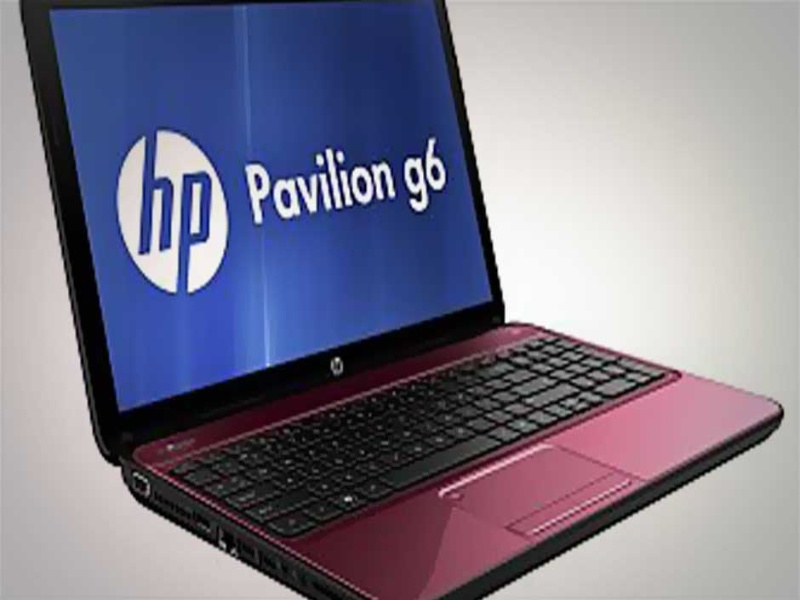hp: (123, 129, 227, 299), (328, 358, 348, 375)
